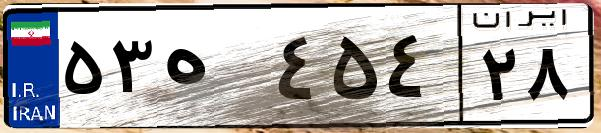2: (475, 38, 525, 113)
3: (110, 28, 158, 98)
4: (270, 28, 330, 110), (385, 28, 445, 110)
5: (330, 28, 385, 110), (57, 26, 110, 100)
8: (525, 38, 570, 115)
ه: (158, 20, 270, 120)
